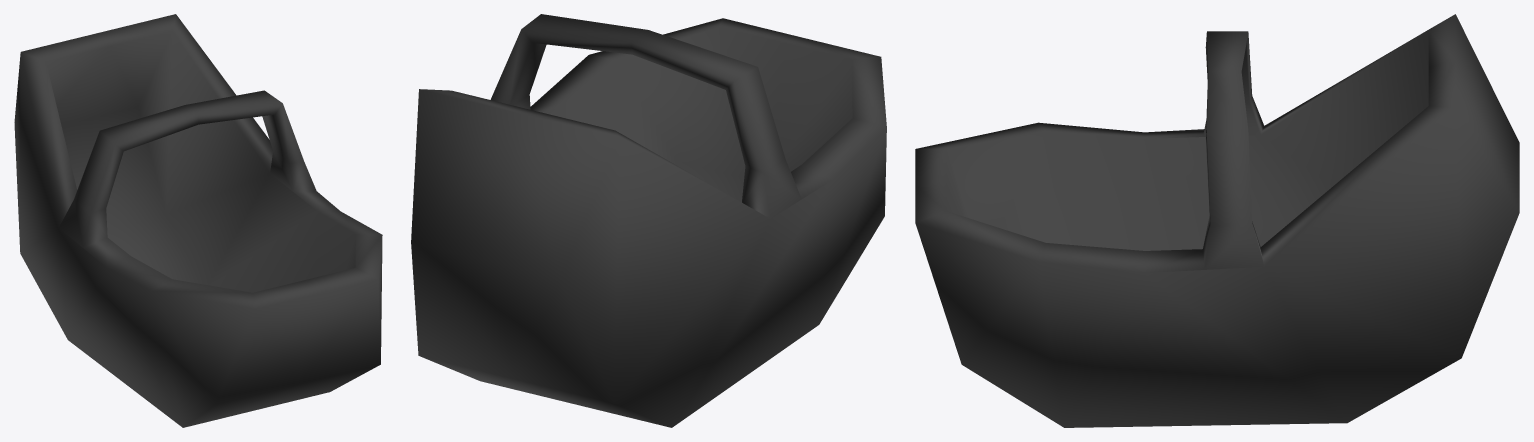
Rendered from scene1_prop.dae.
The picture shows the model from 3 angles, left to right: view 1: azimuth 30°, elevation 25°; view 2: azimuth 150°, elevation 25°; view 3: azimuth 270°, elevation 25°; orthographic projection. The views are drawn at different scales.
Visible parts, largest first — view 1: Body_000; view 2: Body_000; view 3: Body_000.
Part boxes in pixels (x1,y1,x2,y2): Body_000: (14, 14, 382, 427); Body_000: (411, 14, 886, 427); Body_000: (915, 14, 1519, 427).
Size of the model in its own units: 10.23 by 18.52 by 10.91.
1 material, 1 textured.
